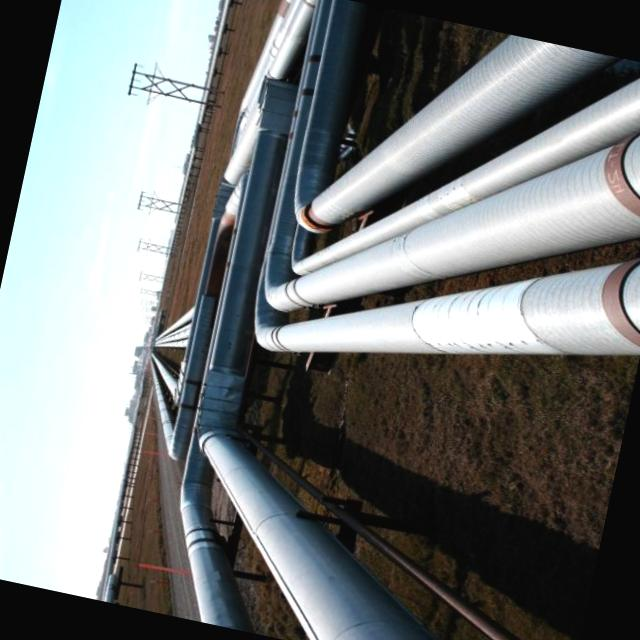gas: (292, 76, 640, 274), (273, 134, 640, 310), (180, 79, 296, 633), (308, 33, 618, 224), (200, 430, 440, 640), (255, 258, 640, 354), (264, 0, 332, 302), (180, 430, 253, 633), (267, 0, 316, 79), (152, 357, 174, 450), (153, 306, 193, 346), (152, 351, 179, 399)
